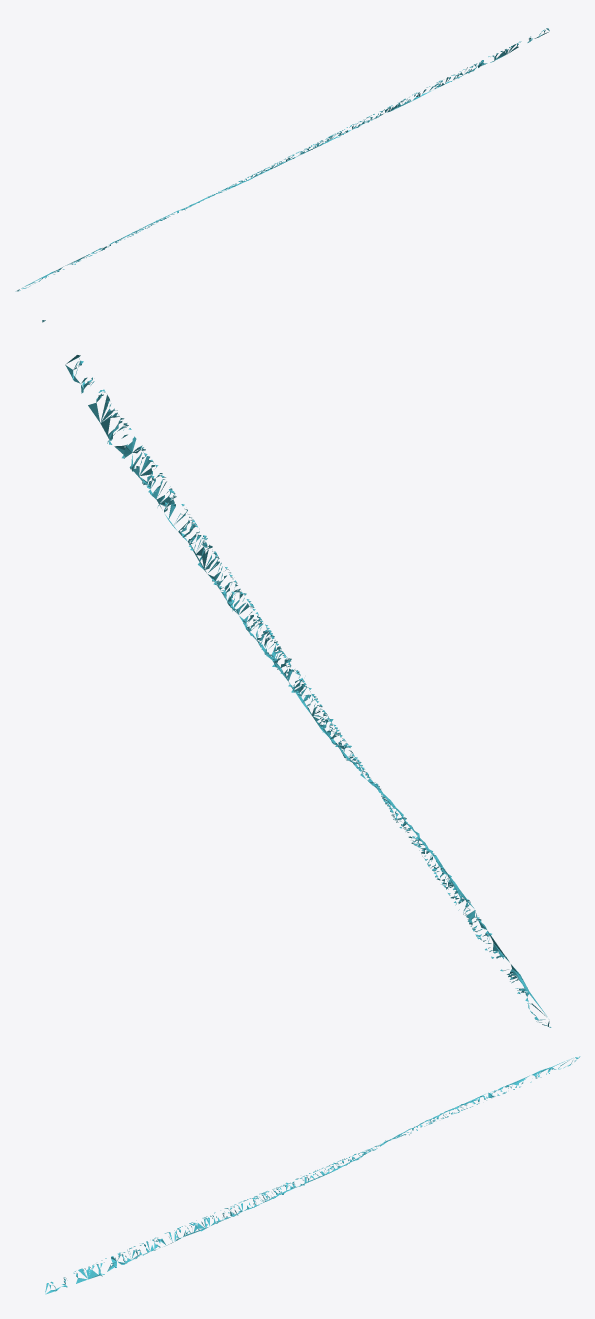
3 renders of one model, top to bottom at view 1: azimuth 90°, elevation 25°; view 2: azimuth 150°, elevation 25°; view 3: azimuth 270°, elevation 25°, orthographic. The views are drawn at different scales.
Parts seen in each view (by area): view 1: Renderer Node; view 2: Renderer Node; view 3: Renderer Node.
Boxes of the visible parts, x1=… form: Renderer Node: x1=15, y1=28, x2=549, y2=291; Renderer Node: x1=42, y1=320, x2=551, y2=1027; Renderer Node: x1=45, y1=1056, x2=580, y2=1294.
Size of the model in its own units: 0.00301 by 0.000114 by 0.00275.
Materials: 1 (1 with a texture image).
